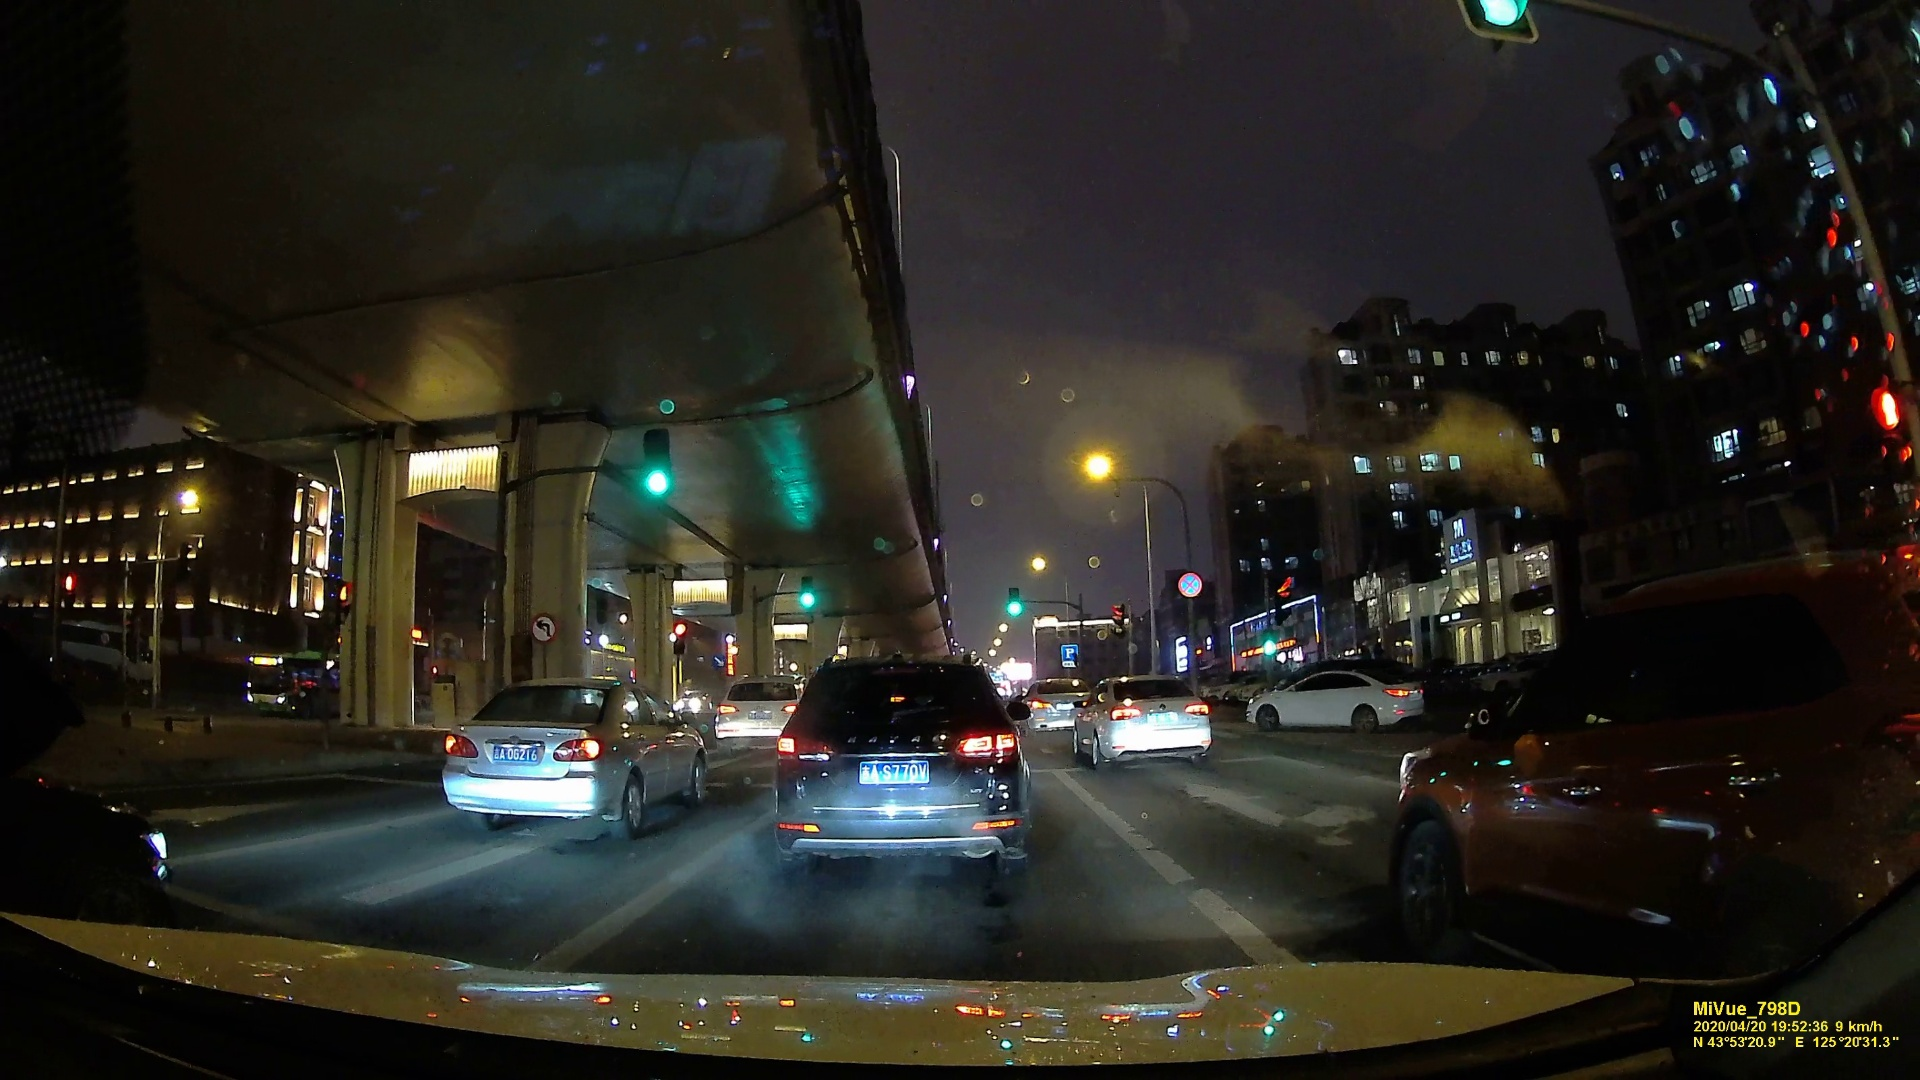traffic_sign: (640, 427, 674, 504), (1269, 574, 1292, 622), (331, 582, 353, 622), (530, 613, 556, 644), (1178, 572, 1203, 597), (1108, 605, 1126, 636), (673, 621, 688, 655), (799, 578, 815, 611), (1005, 587, 1022, 616), (1062, 644, 1080, 667)
vehicle: (1396, 560, 1915, 936), (771, 644, 1038, 890), (435, 671, 709, 847), (1072, 671, 1217, 767), (1242, 665, 1436, 735), (715, 675, 796, 742), (1029, 678, 1085, 735), (673, 690, 709, 719)
